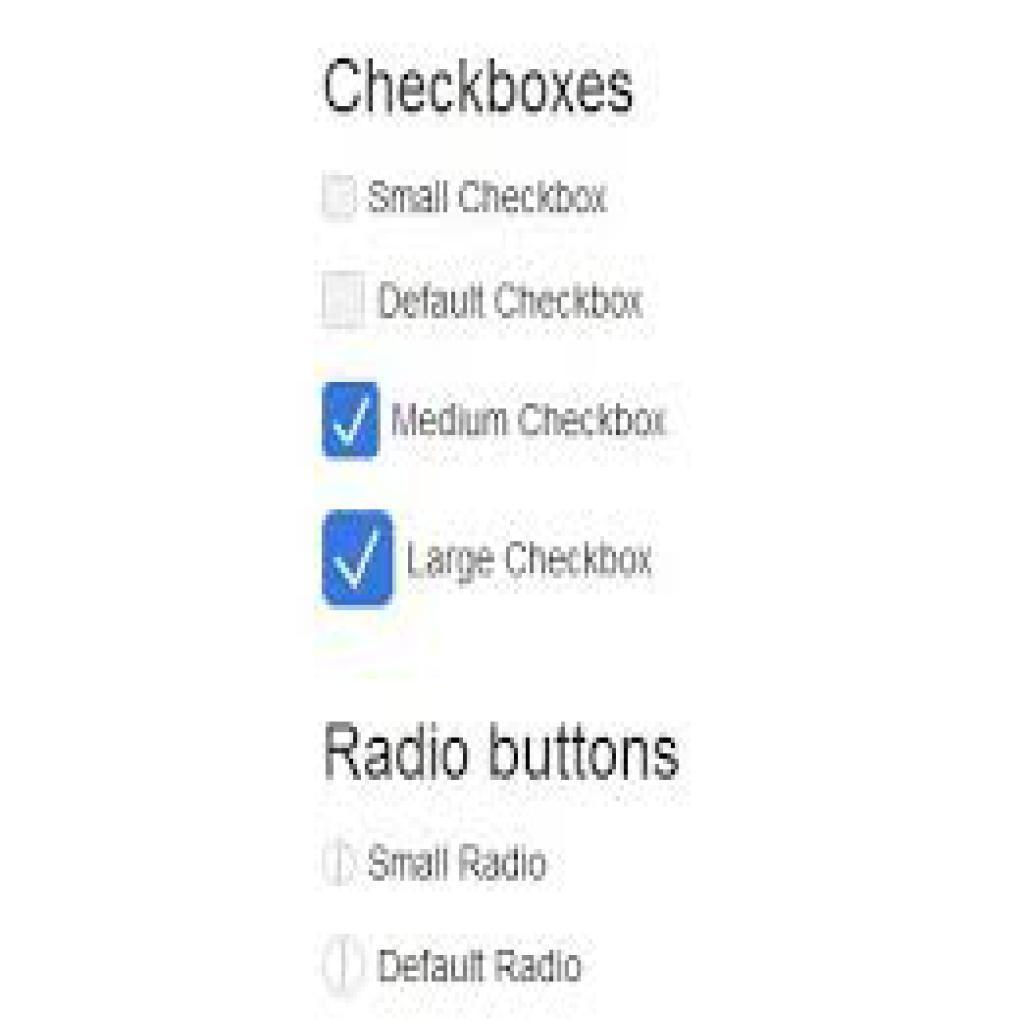checkbox: (325, 513, 396, 608), (322, 385, 380, 459), (321, 270, 370, 332), (319, 173, 362, 223)
radio: (317, 935, 370, 1001), (318, 835, 363, 890)
